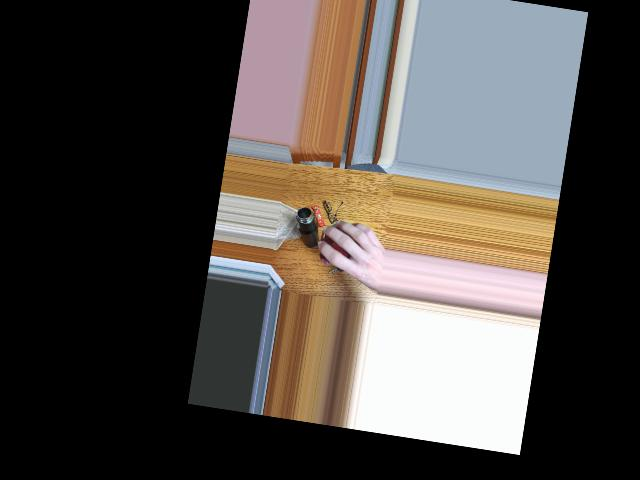onion: (324, 220, 362, 270)
